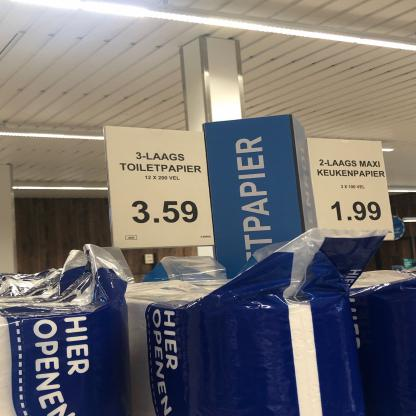prtg: (103, 127, 215, 251), (309, 139, 395, 242)
